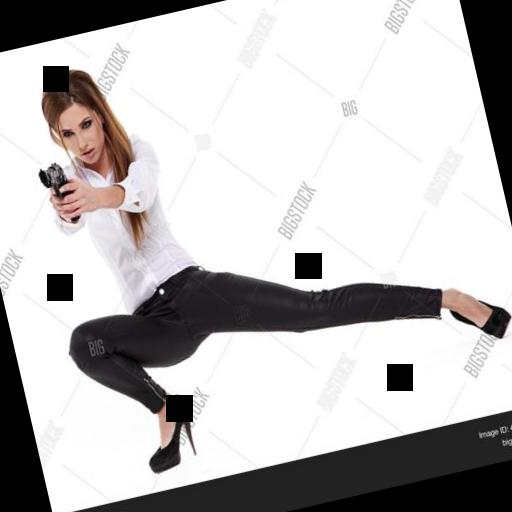Handgun: (35, 158, 81, 226)
